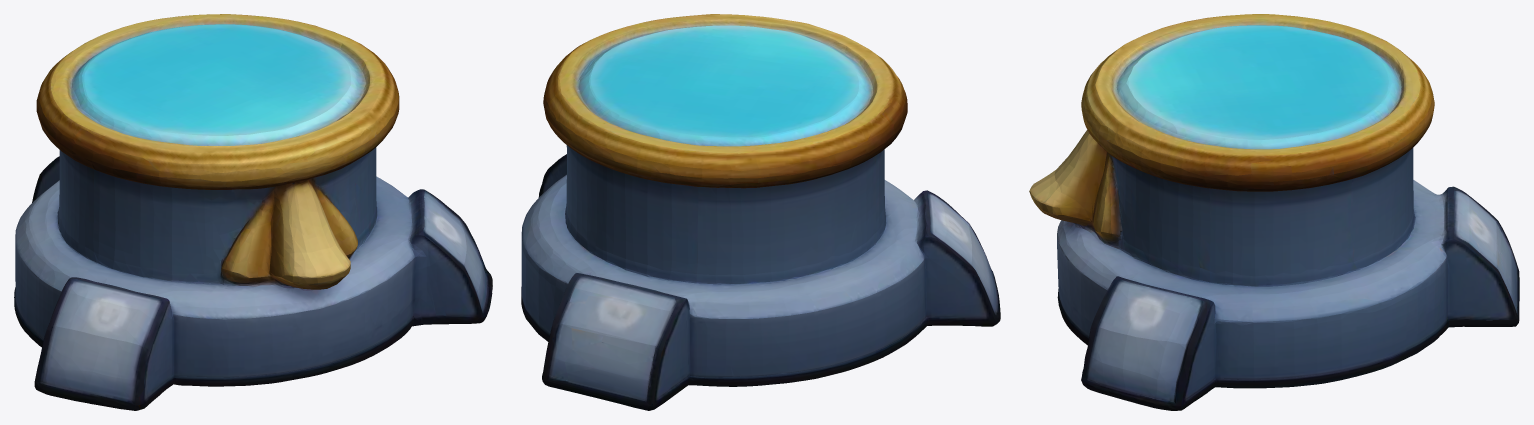
Rendered from pedestal1.glb.
The picture shows the model from 3 angles, left to right: view 1: azimuth 30°, elevation 25°; view 2: azimuth 150°, elevation 25°; view 3: azimuth 270°, elevation 25°; orthographic projection.
Visible parts, largest first — view 1: world; view 2: world; view 3: world.
Boxes of the visible parts, x1,y1,x2,y2 form: world: (14, 14, 492, 410); world: (521, 14, 1000, 410); world: (1029, 14, 1519, 410).
Size of the model in its own units: 0.9994 by 0.48 by 0.9398.
1 material, 1 textured.
